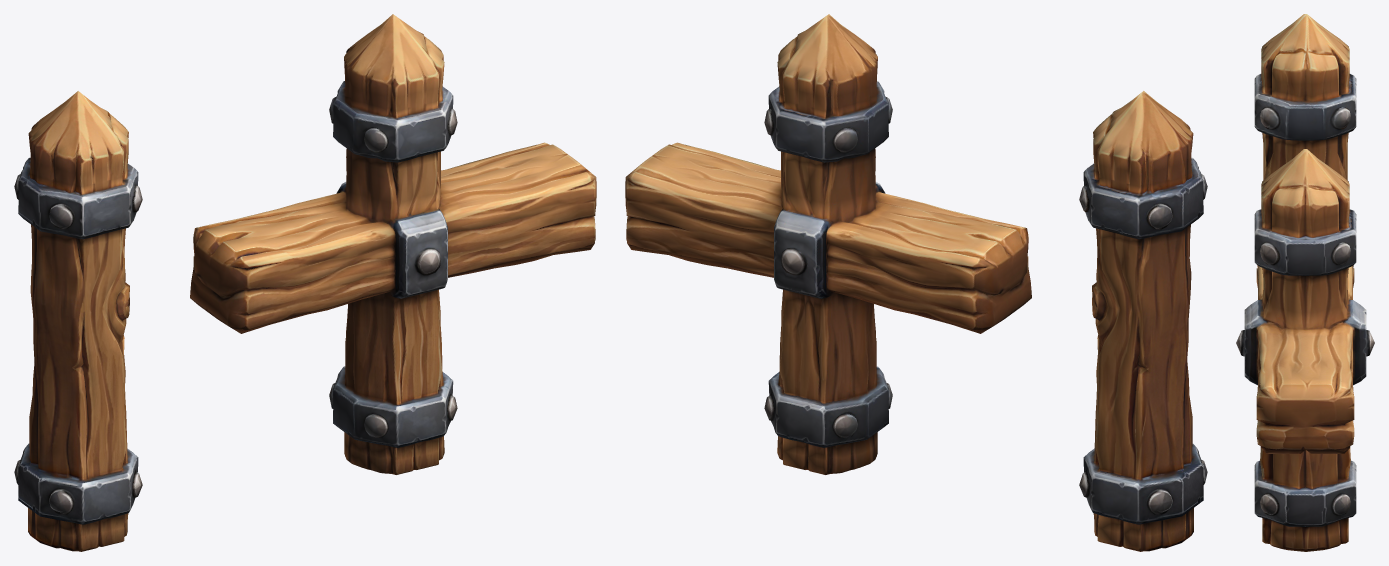
File: wooden_cross_post.glb
The picture shows the model from 3 angles, left to right: view 1: azimuth 30°, elevation 25°; view 2: azimuth 150°, elevation 25°; view 3: azimuth 270°, elevation 25°; orthographic projection. The views are drawn at different scales.
Visible parts, largest first — view 1: tripo_node_c30ef456-4f44-4801-8005-0979593a58b5; view 2: tripo_node_c30ef456-4f44-4801-8005-0979593a58b5; view 3: tripo_node_c30ef456-4f44-4801-8005-0979593a58b5.
Part boxes in pixels (box(x1,y1,x2,y2)): tripo_node_c30ef456-4f44-4801-8005-0979593a58b5: box(14, 14, 596, 551); tripo_node_c30ef456-4f44-4801-8005-0979593a58b5: box(625, 14, 1207, 551); tripo_node_c30ef456-4f44-4801-8005-0979593a58b5: box(1236, 14, 1374, 551).
Size of the model in its own units: 0.9787 by 0.7451 by 0.2432.
1 material, 1 textured.
